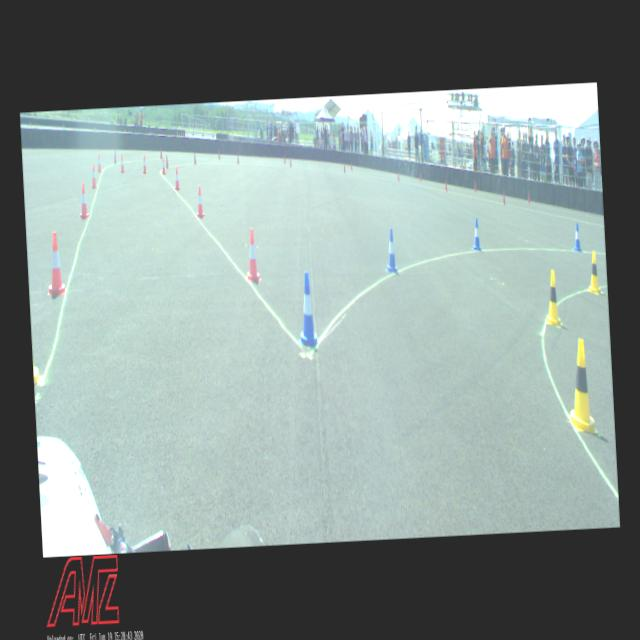blue_cone: (296, 272, 320, 346), (384, 228, 398, 273), (472, 218, 482, 250), (573, 224, 581, 251)
orange_cone: (44, 232, 66, 295), (244, 230, 261, 282), (79, 184, 89, 218), (196, 186, 204, 217), (90, 165, 97, 188), (173, 168, 180, 190), (142, 156, 147, 174), (120, 154, 125, 172), (97, 154, 102, 172), (162, 158, 166, 175)
unknown_cone: (502, 192, 506, 204), (444, 180, 448, 192), (166, 154, 169, 168), (194, 152, 197, 164), (419, 172, 422, 182), (474, 182, 477, 192), (114, 150, 116, 164), (398, 170, 400, 182), (528, 192, 530, 204), (238, 154, 240, 164), (290, 157, 292, 167), (160, 150, 162, 159), (218, 150, 220, 158), (344, 164, 346, 172), (351, 162, 353, 170), (284, 154, 285, 163)
yellow_cone: (564, 338, 598, 436), (544, 270, 562, 326), (588, 251, 600, 293)
